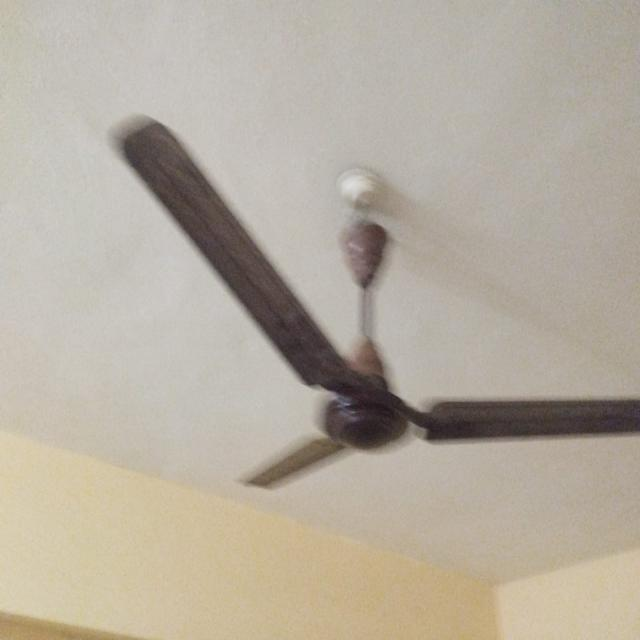fan_off: (118, 116, 640, 498)
